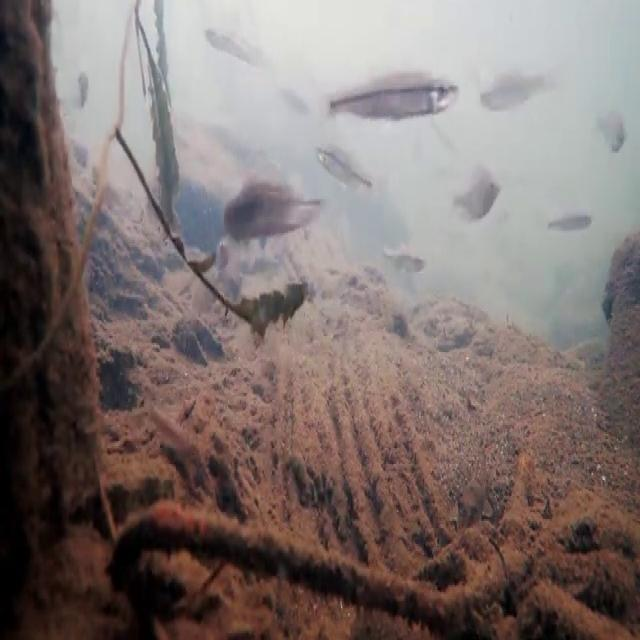Cakil Baligi: (326, 64, 458, 124)
